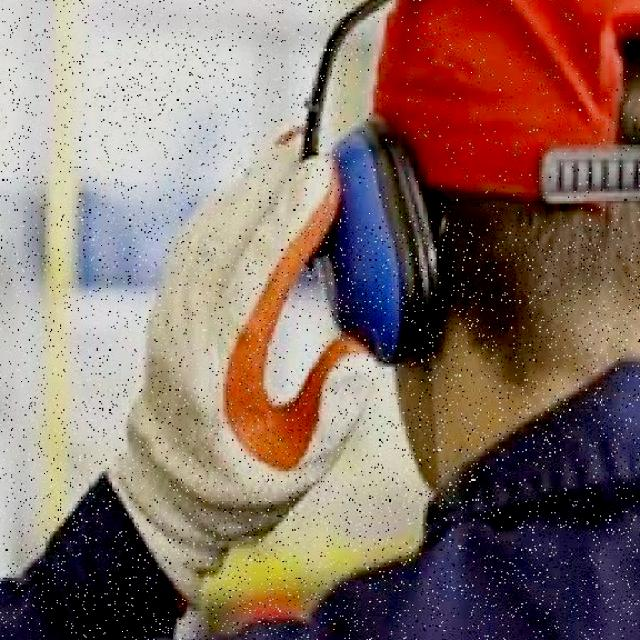Earmuffs: (330, 121, 438, 362)
Gloves: (115, 127, 373, 570)
Hardhat: (374, 0, 640, 198)
Overall Suit: (214, 361, 640, 640), (0, 478, 174, 640)
